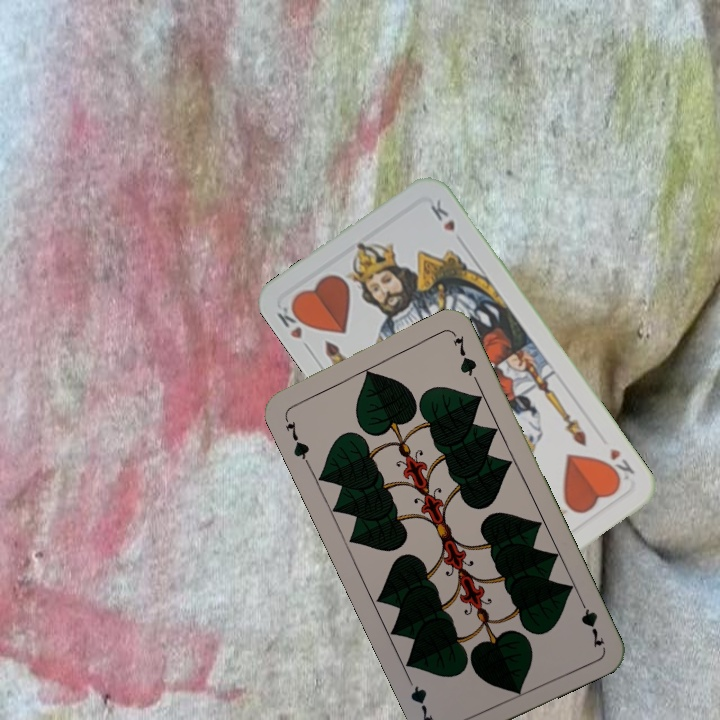G7: (574, 593, 607, 651), (280, 411, 312, 467)
HK: (272, 299, 314, 355), (600, 444, 638, 485)
